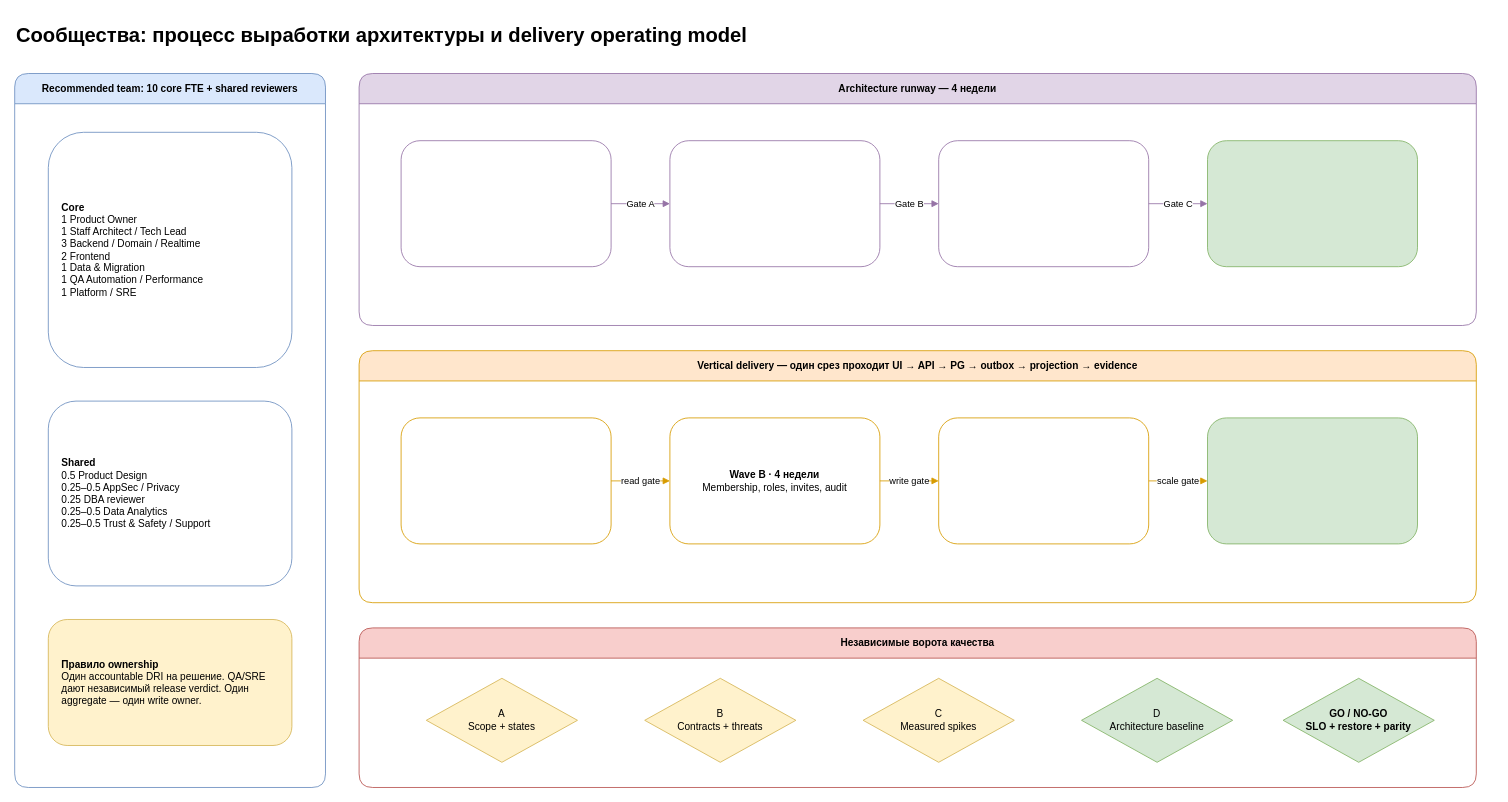
Some shapes in this 1508 by 802 pixel diagram are drawn without their labels. Each missing label, with the centre of its shape:
"Wave A · 3 недели Truth, mine, discovery, detail, Home" goes at point 505,480.
"Wave C + D · 5–8 недель Feed, media, moderation Chat, realtime, notifications" goes at point 1043,480.
"Wave E + F · 7–9 недель Rating, migration, shadow scale, cohorts, GA" goes at point 1312,480.
"Неделя 1 Product rules Domain / event storming Workload + threat model" goes at point 505,203.
"Неделя 2 ERD + OpenAPI Commands / events Migration design" goes at point 774,203.
"Неделя 3 Feed / membership Realtime / fan-out Media / migration spikes" goes at point 1043,203.
"Неделя 4 Accepted ADR Walking skeleton Dashboards + runbooks" goes at point 1312,203.
